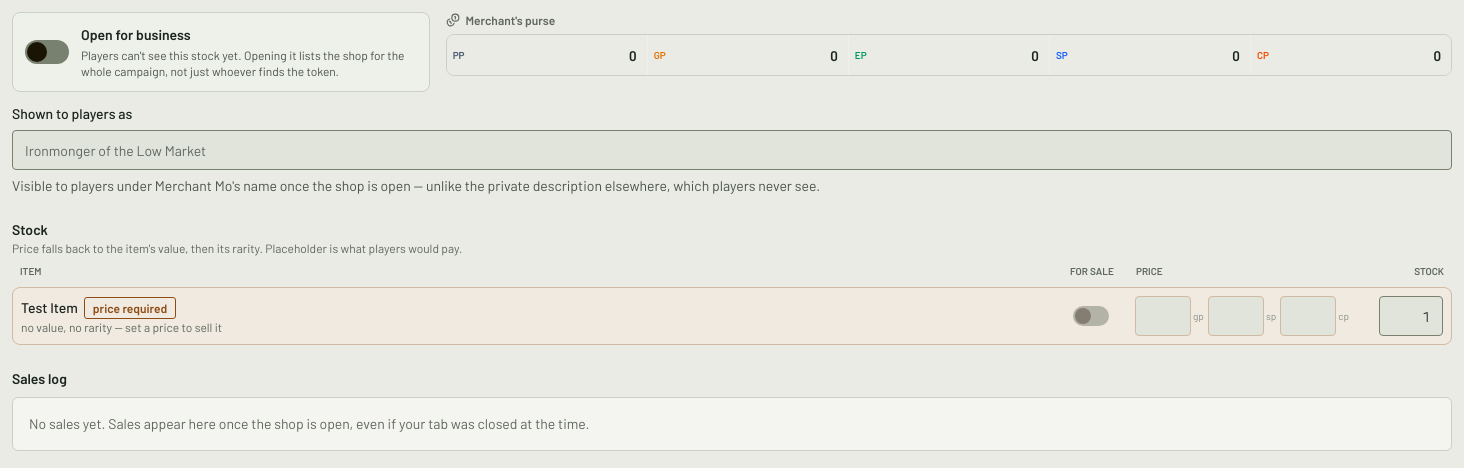
Scenario: NPCShopTab › typing an explicit 0 price persists as a real 0, not as a cleared field
Type "0" into the field named "Test Item price (gp)". click: (1163, 316)
box: [1135,296,1191,336]
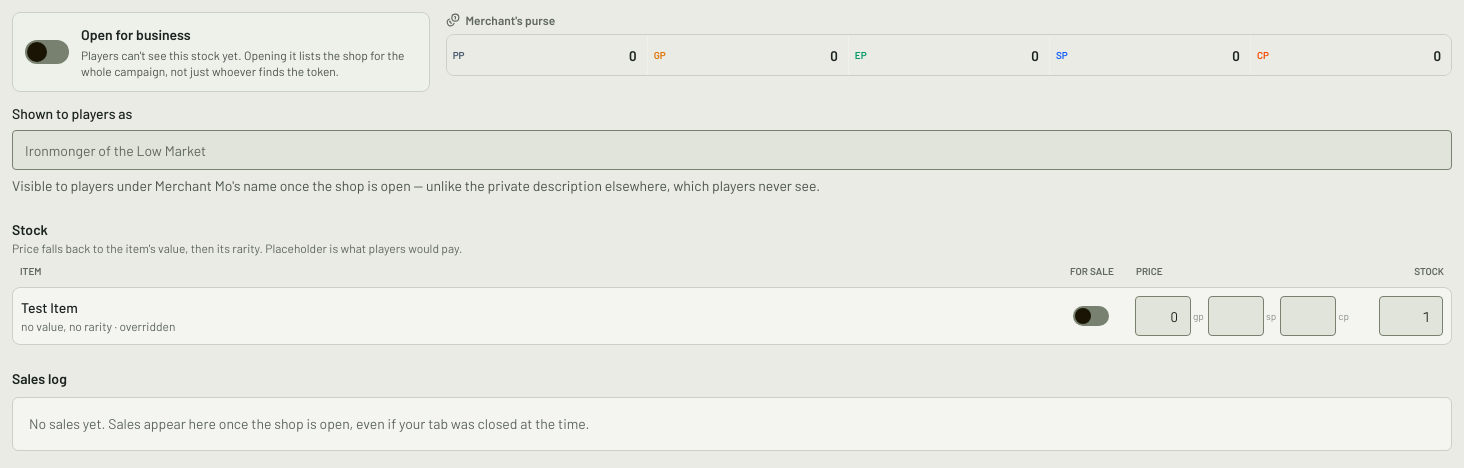
Expected: the text "price required" is gone
